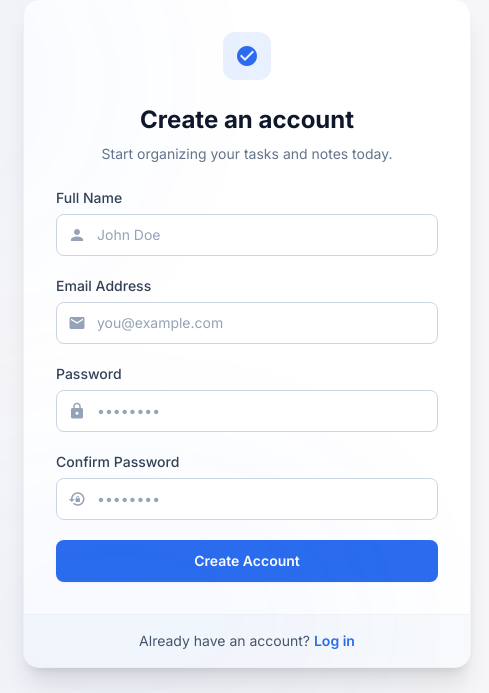
SignUp Page › shows error on failed registration
Type "Test User" into the field labelled "Full Name" at (247, 234), box [56,214,438,256]
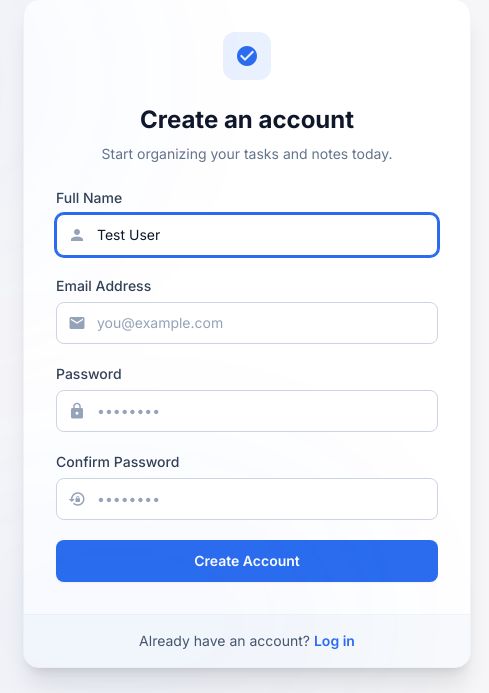
Type "test@example.com" into the field labelled "Email Address" at (247, 322), box [56,302,438,344]
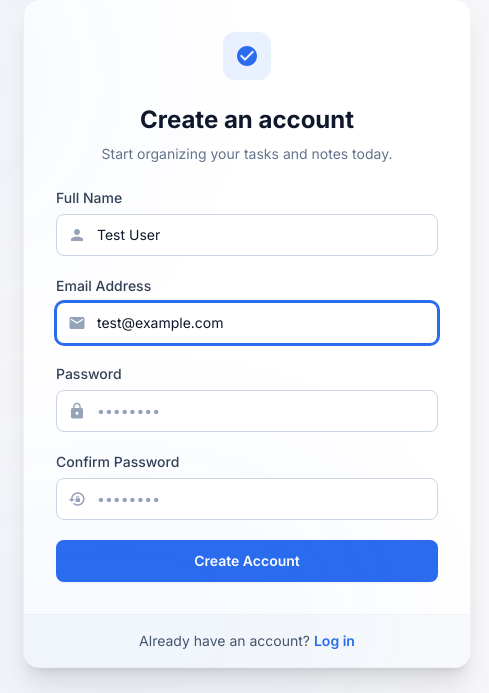
Type "password123" into the password field labelled "Password" at (247, 410), box [56,390,438,432]
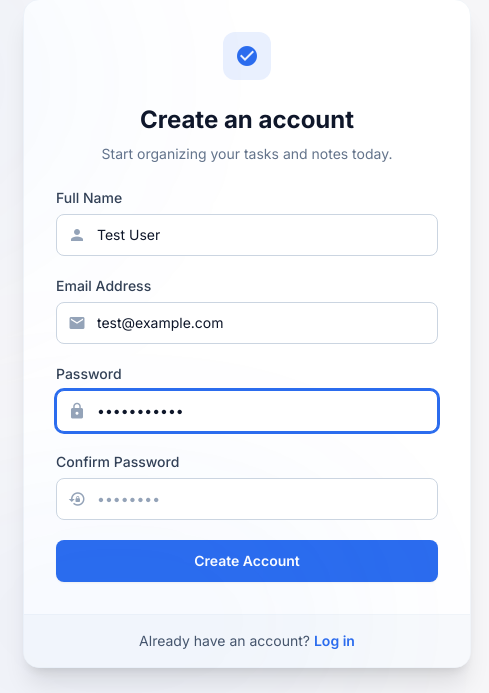
Type "password123" into the password field labelled "Confirm Password" at (247, 498), box [56,478,438,520]
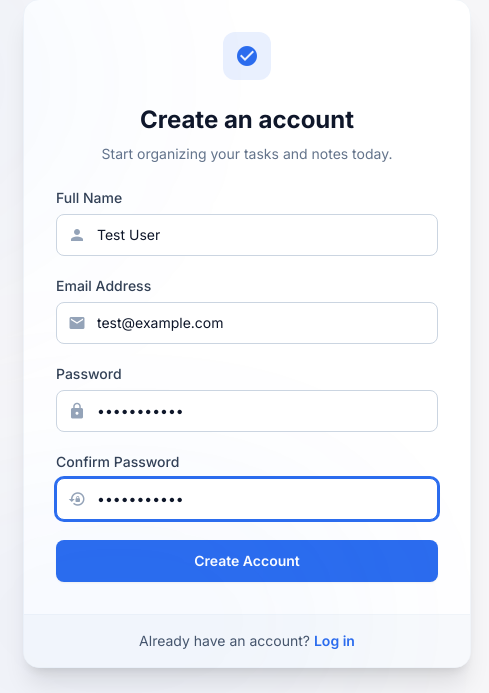
Submit the form, box [24,188,470,614]
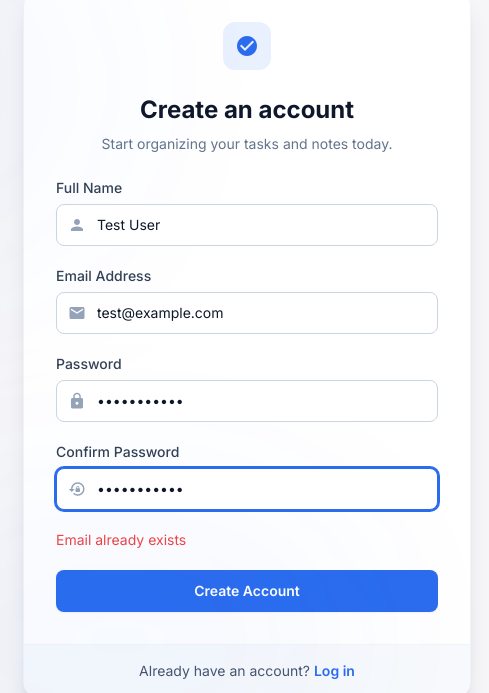
Expected: the text "Email already exists" is shown, [56,531,186,548]
